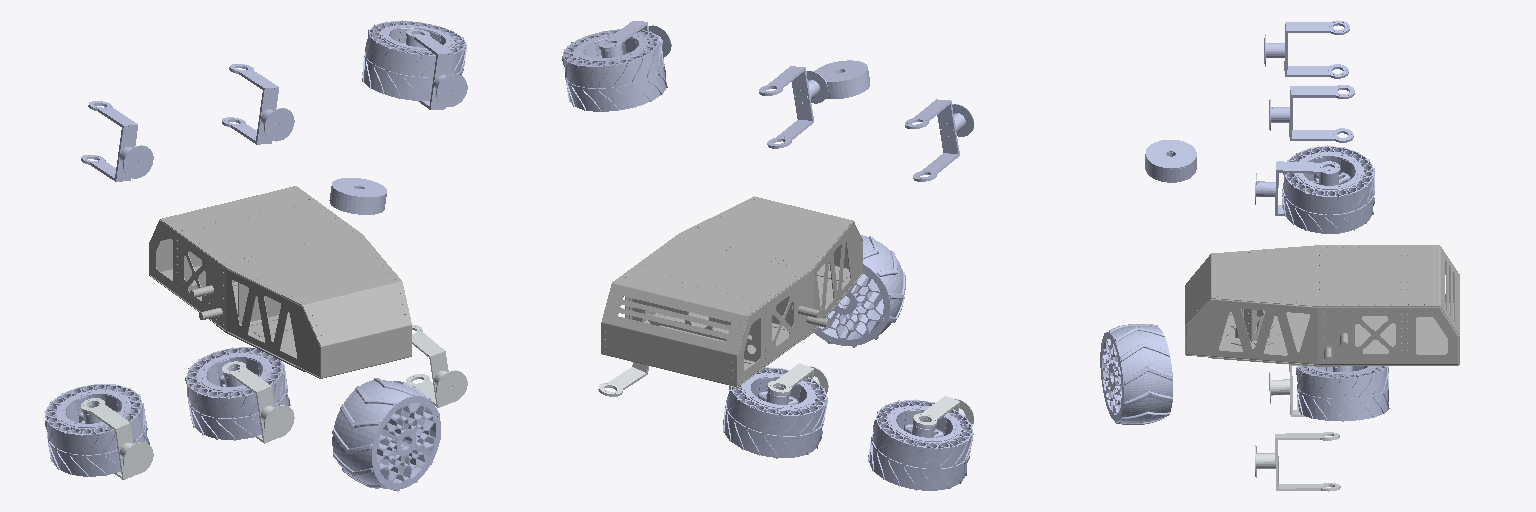
URDF robot description (drive):
<?xml version="1.0" encoding="utf-8"?>
<!-- This URDF was automatically created by SolidWorks to URDF Exporter! Originally created by [author] ([email redacted]) 
     Commit Version: 1.6.0-1-g15f4949  Build Version: 1.6.7594.29634
     For more information, please see http://wiki.ros.org/sw_urdf_exporter -->
<robot
  name="drive">
  <link name="base_link"></link>
  <joint name="base_joint" type="fixed">
    <parent link="base_link" />
    <child link="base" />
  </joint>
  <link
    name="base">
    <inertial>
      <origin
        xyz="-0.35497 0.10982 0.55714"
        rpy="0 0 0" />
      <mass
        value="18.063" />
      <inertia
        ixx="0.20037"
        ixy="-1.3152E-07"
        ixz="0.0037179"
        iyy="0.35275"
        iyz="-3.781E-05"
        izz="0.47466" />
    </inertial>
    <visual>
      <origin
        xyz="0 0 0"
        rpy="0 0 0" />
      <geometry>
        <mesh
          filename="package://drive/meshes/base.STL" />
      </geometry>
      <material
        name="">
        <color
          rgba="0.75294 0.75294 0.75294 1" />
      </material>
    </visual>
    <collision>
      <origin
        xyz="0 0 0"
        rpy="0 0 0" />
      <geometry>
        <mesh
          filename="package://drive/meshes/base.STL" />
      </geometry>
    </collision>
  </link>
  <link
    name="steer_1">
    <inertial>
      <origin
        xyz="0.55966 0.39675 0.0077885"
        rpy="0 0 0" />
      <mass
        value="0.93296" />
      <inertia
        ixx="0.0032607"
        ixy="-1.9792E-12"
        ixz="7.218E-14"
        iyy="0.0013996"
        iyz="0.00072794"
        izz="0.0023169" />
    </inertial>
    <visual>
      <origin
        xyz="0 0 0"
        rpy="0 0 0" />
      <geometry>
        <mesh
          filename="package://drive/meshes/steer_1.STL" />
      </geometry>
      <material
        name="">
        <color
          rgba="0.89804 0.91765 0.92941 1" />
      </material>
    </visual>
    <collision>
      <origin
        xyz="0 0 0"
        rpy="0 0 0" />
      <geometry>
        <mesh
          filename="package://drive/meshes/steer_1.STL" />
      </geometry>
    </collision>
  </link>
  <joint
    name="steer_joint_1"
    type="revolute">
    <origin
      xyz="-0.38981 -0.6439 -0.26639"
      rpy="3.1266 0.16055 -3.1146" />
    <parent
      link="base" />
    <child
      link="steer_1" />
    <axis
      xyz="0.15986 -0.014782 0.98703" />
    <limit
      lower="0"
      upper="0"
      effort="0"
      velocity="0" />
  </joint>
  <link
    name="wheel_1">
    <inertial>
      <origin
        xyz="0.632386178377502 0.015625298348256 -0.446756264575141"
        rpy="0 0 0" />
      <mass
        value="3.55769702765534" />
      <inertia
        ixx="0.0252798529107038"
        ixy="7.73019516263742E-10"
        ixz="-1.31472155428039E-10"
        iyy="0.0397292242010914"
        iyz="-2.42390579607626E-09"
        izz="0.0252799321811344" />
    </inertial>
    <visual>
      <origin
        xyz="0 0 0"
        rpy="0 0 0" />
      <geometry>
        <mesh
          filename="package://drive/meshes/wheel_1.STL" />
      </geometry>
      <material
        name="">
        <color
          rgba="0.792156862745098 0.819607843137255 0.933333333333333 1" />
      </material>
    </visual>
    <collision>
      <origin
        xyz="0 0 0"
        rpy="0 0 0" />
      <geometry>
        <mesh
          filename="package://drive/meshes/wheel_1.STL" />
      </geometry>
    </collision>
  </link>
  <joint
    name="wheel_joint_1"
    type="revolute">
    <origin
      xyz="-0.00080685 7.4606E-05 -0.0049816"
      rpy="1.5708 0 0.14638" />
    <parent
      link="steer_1" />
    <child
      link="wheel_1" />
    <axis
      xyz="0.156 0.98703 0.037941" />
    <limit
      lower="0"
      upper="0"
      effort="0"
      velocity="0" />
  </joint>
  <link
    name="steer_2">
    <inertial>
      <origin
        xyz="0.55966 0.39675 -0.0077885"
        rpy="0 0 0" />
      <mass
        value="0.93296" />
      <inertia
        ixx="0.0032607"
        ixy="-1.1084E-12"
        ixz="-9.7378E-13"
        iyy="0.0013996"
        iyz="-0.00072794"
        izz="0.0023169" />
    </inertial>
    <visual>
      <origin
        xyz="0 0 0"
        rpy="0 0 0" />
      <geometry>
        <mesh
          filename="package://drive/meshes/steer_2.STL" />
      </geometry>
      <material
        name="">
        <color
          rgba="0.79216 0.81961 0.93333 1" />
      </material>
    </visual>
    <collision>
      <origin
        xyz="0 0 0"
        rpy="0 0 0" />
      <geometry>
        <mesh
          filename="package://drive/meshes/steer_2.STL" />
      </geometry>
    </collision>
  </link>
  <joint
    name="steer_joint_2"
    type="revolute">
    <origin
      xyz="-0.38981 -0.6439 0.48751"
      rpy="-3.1266 -0.16055 -3.1146" />
    <parent
      link="base" />
    <child
      link="steer_2" />
    <axis
      xyz="0.15986 -0.014782 -0.98703" />
    <limit
      lower="0"
      upper="0"
      effort="0"
      velocity="0" />
  </joint>
  <link
    name="wheel_2">
    <inertial>
      <origin
        xyz="0.632390763476593 0.0156201593477349 0.44675231879292"
        rpy="0 0 0" />
      <mass
        value="3.55819809981133" />
      <inertia
        ixx="0.0252796599595112"
        ixy="1.40358695118389E-09"
        ixz="-1.99331117931023E-09"
        iyy="0.0397304966119086"
        iyz="-5.52164327195098E-09"
        izz="0.0252797287873775" />
    </inertial>
    <visual>
      <origin
        xyz="0 0 0"
        rpy="0 0 0" />
      <geometry>
        <mesh
          filename="package://drive/meshes/wheel_2.STL" />
      </geometry>
      <material
        name="">
        <color
          rgba="0.792156862745098 0.819607843137255 0.933333333333333 1" />
      </material>
    </visual>
    <collision>
      <origin
        xyz="0 0 0"
        rpy="0 0 0" />
      <geometry>
        <mesh
          filename="package://drive/meshes/wheel_2.STL" />
      </geometry>
    </collision>
  </link>
  <joint
    name="wheel_joint_2"
    type="revolute">
    <origin
      xyz="-0.00080685 7.4606E-05 0.0049816"
      rpy="-1.5708 0 0.14638" />
    <parent
      link="steer_2" />
    <child
      link="wheel_2" />
    <axis
      xyz="0.156 0.98703 -0.037941" />
    <limit
      lower="0"
      upper="0"
      effort="0"
      velocity="0" />
  </joint>
  <link
    name="steer_3">
    <inertial>
      <origin
        xyz="0.091579 0.39809 0.084573"
        rpy="0 0 0" />
      <mass
        value="0.93296" />
      <inertia
        ixx="0.0032607"
        ixy="-1.9785E-12"
        ixz="7.2576E-14"
        iyy="0.0013996"
        iyz="0.00072794"
        izz="0.0023169" />
    </inertial>
    <visual>
      <origin
        xyz="0 0 0"
        rpy="0 0 0" />
      <geometry>
        <mesh
          filename="package://drive/meshes/steer_3.STL" />
      </geometry>
      <material
        name="">
        <color
          rgba="0.89804 0.91765 0.92941 1" />
      </material>
    </visual>
    <collision>
      <origin
        xyz="0 0 0"
        rpy="0 0 0" />
      <geometry>
        <mesh
          filename="package://drive/meshes/steer_3.STL" />
      </geometry>
    </collision>
  </link>
  <joint
    name="steer_joint_3"
    type="revolute">
    <origin
      xyz="-0.38981 -0.6439 -0.26639"
      rpy="3.1266 0.16055 -3.1146" />
    <parent
      link="base" />
    <child
      link="steer_3" />
    <axis
      xyz="0.15986 -0.014788 0.98703" />
    <limit
      lower="0"
      upper="0"
      effort="0"
      velocity="0" />
  </joint>
  <link
    name="wheel_3">
    <inertial>
      <origin
        xyz="0.361993144143722 0.0961827287359436 0.405419611566657"
        rpy="0 0 0" />
      <mass
        value="3.55769708838011" />
      <inertia
        ixx="0.0252798482708474"
        ixy="-7.88645922628365E-10"
        ixz="-2.59567017619339E-09"
        iyy="0.0397292243514331"
        iyz="-2.58774197019586E-09"
        izz="0.0252799345104986" />
    </inertial>
    <visual>
      <origin
        xyz="0 0 0"
        rpy="0 0 0" />
      <geometry>
        <mesh
          filename="package://drive/meshes/wheel_3.STL" />
      </geometry>
      <material
        name="">
        <color
          rgba="0.792156862745098 0.819607843137255 0.933333333333333 1" />
      </material>
    </visual>
    <collision>
      <origin
        xyz="0 0 0"
        rpy="0 0 0" />
      <geometry>
        <mesh
          filename="package://drive/meshes/wheel_3.STL" />
      </geometry>
    </collision>
  </link>
  <joint
    name="wheel_joint_3"
    type="revolute">
    <origin
      xyz="-0.001418 0.00013117 -0.0087549"
      rpy="1.5708 0 2.2408" />
    <parent
      link="steer_3" />
    <child
      link="wheel_3" />
    <axis
      xyz="0.11086 -0.98703 -0.11612" />
    <limit
      lower="0"
      upper="0"
      effort="0"
      velocity="0" />
  </joint>
  <link
    name="steer_4">
    <inertial>
      <origin
        xyz="0.091579 0.39809 -0.084573"
        rpy="0 0 0" />
      <mass
        value="0.93296" />
      <inertia
        ixx="0.0032607"
        ixy="-1.1078E-12"
        ixz="-9.743E-13"
        iyy="0.0013996"
        iyz="-0.00072794"
        izz="0.0023169" />
    </inertial>
    <visual>
      <origin
        xyz="0 0 0"
        rpy="0 0 0" />
      <geometry>
        <mesh
          filename="package://drive/meshes/steer_4.STL" />
      </geometry>
      <material
        name="">
        <color
          rgba="0.79216 0.81961 0.93333 1" />
      </material>
    </visual>
    <collision>
      <origin
        xyz="0 0 0"
        rpy="0 0 0" />
      <geometry>
        <mesh
          filename="package://drive/meshes/steer_4.STL" />
      </geometry>
    </collision>
  </link>
  <joint
    name="steer_joint_4"
    type="revolute">
    <origin
      xyz="-0.38981 -0.6439 0.48751"
      rpy="-3.1266 -0.16055 -3.1146" />
    <parent
      link="base" />
    <child
      link="steer_4" />
    <axis
      xyz="0.15986 -0.014788 -0.98703" />
    <limit
      lower="0"
      upper="0"
      effort="0"
      velocity="0" />
  </joint>
  <link
    name="wheel_4">
    <inertial>
      <origin
        xyz="0.361985430424447 0.096177654644066 -0.405420381033261"
        rpy="0 0 0" />
      <mass
        value="3.55826837186396" />
      <inertia
        ixx="0.0252796606011502"
        ixy="-1.70205026490001E-08"
        ixz="7.47146953680722E-11"
        iyy="0.0397304958436916"
        iyz="-2.76957251810163E-09"
        izz="0.0252797285945412" />
    </inertial>
    <visual>
      <origin
        xyz="0 0 0"
        rpy="0 0 0" />
      <geometry>
        <mesh
          filename="package://drive/meshes/wheel_4.STL" />
      </geometry>
      <material
        name="">
        <color
          rgba="0.792156862745098 0.819607843137255 0.933333333333333 1" />
      </material>
    </visual>
    <collision>
      <origin
        xyz="0 0 0"
        rpy="0 0 0" />
      <geometry>
        <mesh
          filename="package://drive/meshes/wheel_4.STL" />
      </geometry>
    </collision>
  </link>
  <joint
    name="wheel_joint_4"
    type="revolute">
    <origin
      xyz="-0.001418 0.00013117 0.0087549"
      rpy="-1.5708 0 2.2408" />
    <parent
      link="steer_4" />
    <child
      link="wheel_4" />
    <axis
      xyz="0.11086 -0.98703 0.11612" />
    <limit
      lower="0"
      upper="0"
      effort="0"
      velocity="0" />
  </joint>
  <link
    name="steer_5">
    <inertial>
      <origin
        xyz="-0.42918 0.36281 0.17186"
        rpy="0 0 0" />
      <mass
        value="0.93296" />
      <inertia
        ixx="0.0032607"
        ixy="-8.3553E-13"
        ixz="6.3926E-13"
        iyy="0.0013996"
        iyz="0.00072794"
        izz="0.0023169" />
    </inertial>
    <visual>
      <origin
        xyz="0 0 0"
        rpy="0 0 0" />
      <geometry>
        <mesh
          filename="package://drive/meshes/steer_5.STL" />
      </geometry>
      <material
        name="">
        <color
          rgba="0.89804 0.91765 0.92941 1" />
      </material>
    </visual>
    <collision>
      <origin
        xyz="0 0 0"
        rpy="0 0 0" />
      <geometry>
        <mesh
          filename="package://drive/meshes/steer_5.STL" />
      </geometry>
    </collision>
  </link>
  <joint
    name="steer_joint_5"
    type="revolute">
    <origin
      xyz="-0.38981 -0.6439 -0.26397"
      rpy="3.1174 0.15943 3.1107" />
    <parent
      link="base" />
    <child
      link="steer_5" />
    <axis
      xyz="0.15876 -0.023886 0.98703" />
    <limit
      lower="0"
      upper="0"
      effort="0"
      velocity="0" />
  </joint>
  <link
    name="wheel_5">
    <inertial>
      <origin
        xyz="0.307249119175841 0.179234475324751 -0.582580461950059"
        rpy="0 0 0" />
      <mass
        value="3.55769706915786" />
      <inertia
        ixx="0.0252798482083005"
        ixy="2.49086652906873E-09"
        ixz="1.0684269727626E-09"
        iyy="0.0397292243109542"
        iyz="-4.53786003904084E-10"
        izz="0.0252799355998019" />
    </inertial>
    <visual>
      <origin
        xyz="0 0 0"
        rpy="0 0 0" />
      <geometry>
        <mesh
          filename="package://drive/meshes/wheel_5.STL" />
      </geometry>
      <material
        name="">
        <color
          rgba="0.792156862745098 0.819607843137255 0.933333333333333 1" />
      </material>
    </visual>
    <collision>
      <origin
        xyz="0 0 0"
        rpy="0 0 0" />
      <geometry>
        <mesh
          filename="package://drive/meshes/wheel_5.STL" />
      </geometry>
    </collision>
  </link>
  <joint
    name="wheel_joint_5"
    type="revolute">
    <origin
      xyz="-0.00072772 0.00010949 -0.0045243"
      rpy="1.5708 0 1.1936" />
    <parent
      link="steer_5" />
    <child
      link="wheel_5" />
    <axis
      xyz="0.036271 0.98703 0.1564" />
    <limit
      lower="0"
      upper="0"
      effort="0"
      velocity="0" />
  </joint>
  <link
    name="steer_6">
    <inertial>
      <origin
        xyz="-0.42918 0.36281 -0.17186"
        rpy="0 0 0" />
      <mass
        value="0.93296" />
      <inertia
        ixx="0.0032607"
        ixy="-7.6522E-14"
        ixz="-1.7339E-12"
        iyy="0.0013996"
        iyz="-0.00072794"
        izz="0.0023169" />
    </inertial>
    <visual>
      <origin
        xyz="0 0 0"
        rpy="0 0 0" />
      <geometry>
        <mesh
          filename="package://drive/meshes/steer_6.STL" />
      </geometry>
      <material
        name="">
        <color
          rgba="0.79216 0.81961 0.93333 1" />
      </material>
    </visual>
    <collision>
      <origin
        xyz="0 0 0"
        rpy="0 0 0" />
      <geometry>
        <mesh
          filename="package://drive/meshes/steer_6.STL" />
      </geometry>
    </collision>
  </link>
  <joint
    name="steer_joint_6"
    type="revolute">
    <origin
      xyz="-0.38981 -0.6439 0.4851"
      rpy="-3.1174 -0.15943 3.1107" />
    <parent
      link="base" />
    <child
      link="steer_6" />
    <axis
      xyz="0.15876 -0.023886 -0.98703" />
    <limit
      lower="0"
      upper="0"
      effort="0"
      velocity="0" />
  </joint>
  <link
    name="wheel_6">
    <inertial>
      <origin
        xyz="0.307246744833245 0.179229386603193 0.582572542734998"
        rpy="0 0 0" />
      <mass
        value="3.55826721651292" />
      <inertia
        ixx="0.0252796465085696"
        ixy="-4.3438354106729E-09"
        ixz="-4.83472269250523E-09"
        iyy="0.0397304961785431"
        iyz="-3.77481851888115E-09"
        izz="0.0252797425344985" />
    </inertial>
    <visual>
      <origin
        xyz="0 0 0"
        rpy="0 0 0" />
      <geometry>
        <mesh
          filename="package://drive/meshes/wheel_6.STL" />
      </geometry>
      <material
        name="">
        <color
          rgba="0.792156862745098 0.819607843137255 0.933333333333333 1" />
      </material>
    </visual>
    <collision>
      <origin
        xyz="0 0 0"
        rpy="0 0 0" />
      <geometry>
        <mesh
          filename="package://drive/meshes/wheel_6.STL" />
      </geometry>
    </collision>
  </link>
  <joint
    name="wheel_joint_6"
    type="revolute">
    <origin
      xyz="-0.00072772 0.00010949 0.0045243"
      rpy="-1.5708 0 1.1936" />
    <parent
      link="steer_6" />
    <child
      link="wheel_6" />
    <axis
      xyz="0.036271 0.98703 -0.1564" />
    <limit
      lower="0"
      upper="0"
      effort="0"
      velocity="0" />
  </joint>
</robot>

--- Render facts (derived) ---
The picture shows the robot from 3 angles, left to right: view 1: azimuth 30°, elevation 25°; view 2: azimuth 150°, elevation 25°; view 3: azimuth 270°, elevation 25°; orthographic projection.
Model drive with 14 links and 13 joints (12 revolute, 1 fixed), rooted at base_link, posed all joints at 0.
Links seen in each view (by area): view 1: base, wheel_5, wheel_1, wheel_3, wheel_6, steer_4, steer_2, steer_5, steer_3, steer_1, steer_6, wheel_2; view 2: base, wheel_1, wheel_3, wheel_6, wheel_5, steer_2, steer_4, wheel_2, steer_3, steer_6, steer_1, steer_5; view 3: base, wheel_5, wheel_6, wheel_3, steer_4, steer_2, steer_5, steer_6, wheel_2, wheel_4, steer_3.
Boxes of the visible links, x1,y1,x2,y2 form: base: [149, 186, 411, 378]; wheel_5: [332, 378, 440, 491]; wheel_1: [44, 384, 149, 476]; wheel_3: [185, 347, 290, 440]; wheel_6: [362, 20, 466, 101]; steer_4: [222, 64, 294, 144]; steer_2: [81, 101, 153, 181]; steer_5: [406, 325, 467, 407]; steer_3: [222, 361, 294, 443]; steer_1: [81, 398, 153, 479]; steer_6: [406, 29, 467, 109]; wheel_2: [329, 178, 386, 213]; base: [601, 196, 862, 386]; wheel_1: [868, 399, 973, 490]; wheel_3: [723, 367, 827, 458]; wheel_6: [562, 29, 667, 111]; wheel_5: [814, 235, 905, 347]; steer_2: [905, 99, 973, 181]; steer_4: [759, 66, 828, 148]; wheel_2: [814, 60, 869, 97]; steer_3: [767, 363, 828, 394]; steer_6: [598, 21, 671, 57]; steer_1: [913, 396, 973, 427]; steer_5: [598, 362, 648, 396]; base: [1185, 245, 1459, 366]; wheel_5: [1100, 324, 1172, 424]; wheel_6: [1282, 145, 1374, 233]; wheel_3: [1296, 366, 1389, 421]; steer_4: [1269, 85, 1354, 142]; steer_2: [1264, 20, 1349, 78]; steer_5: [1255, 432, 1340, 491]; steer_6: [1255, 161, 1340, 215]; wheel_2: [1145, 140, 1196, 168]; wheel_4: [1145, 152, 1196, 182]; steer_3: [1269, 365, 1305, 416].
Bounding box of the posed robot: 1.34 × 1.12 × 1.12 m (x, y, z).
Meshes: 13 distinct files referenced, 13 mesh visuals loaded (13 binary STL).